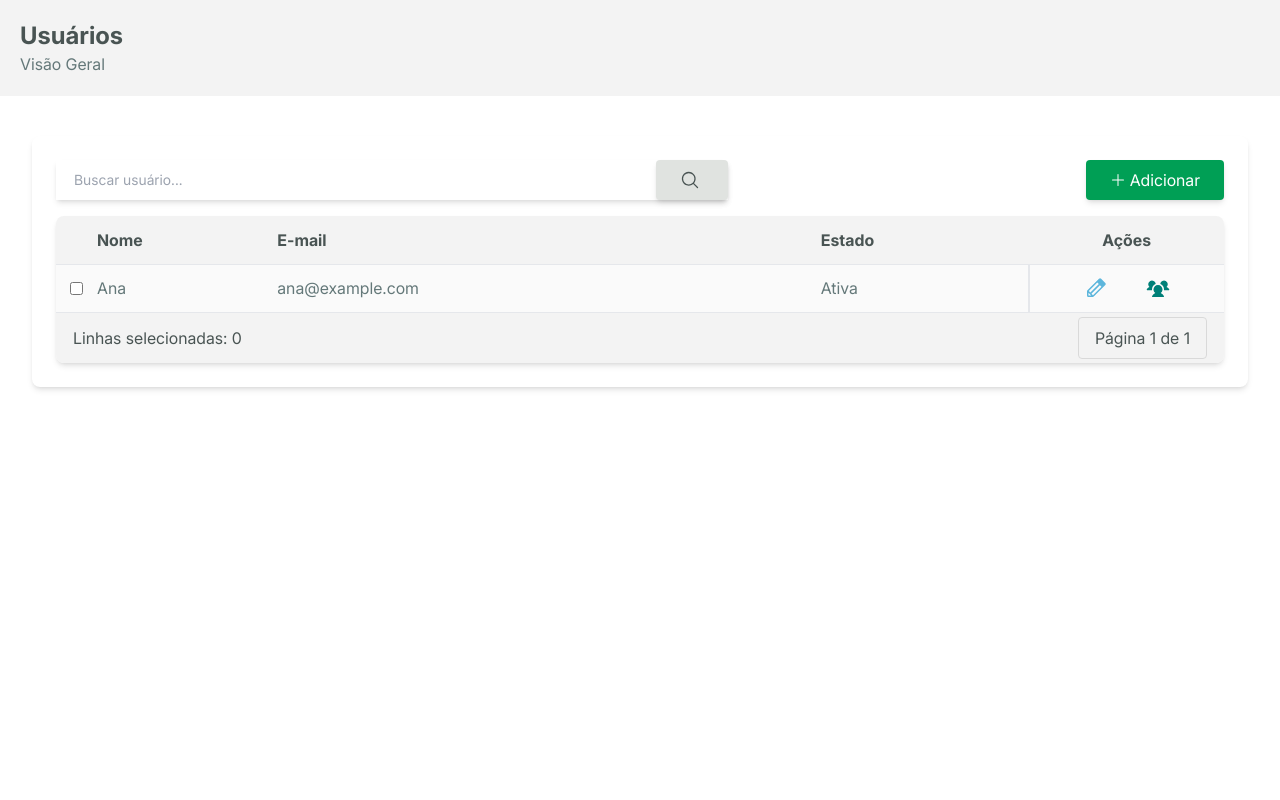
páginas CRUD assistenciais › changes an administrative account state after password confirmation
Check: the text "ana@example.com" is shown, box x1=276 y1=264 x2=820 y2=312
Click the button titled "Alterar estado" at (1096, 288), box x1=1084 y1=276 x2=1108 y2=300
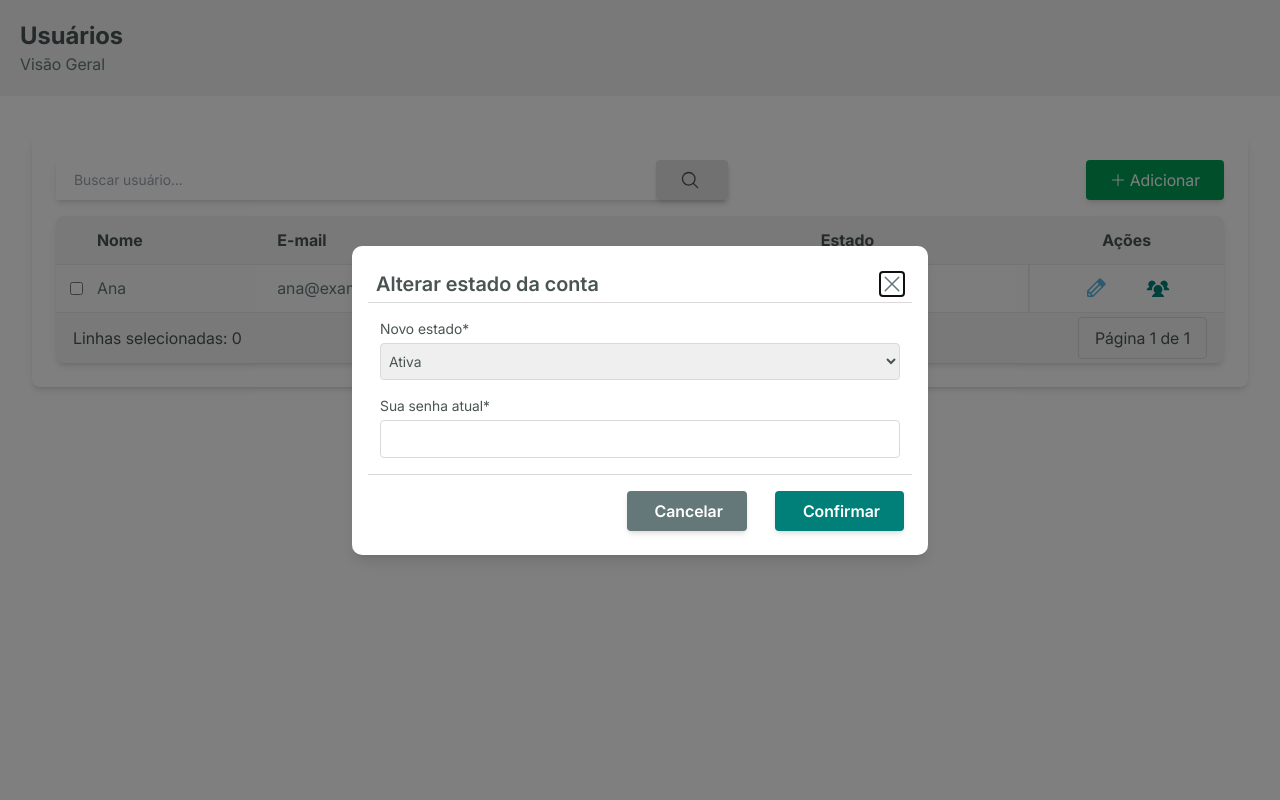
Select "Bloqueada" in the dropdown named "accountState" at (640, 361), box x1=380 y1=342 x2=900 y2=380
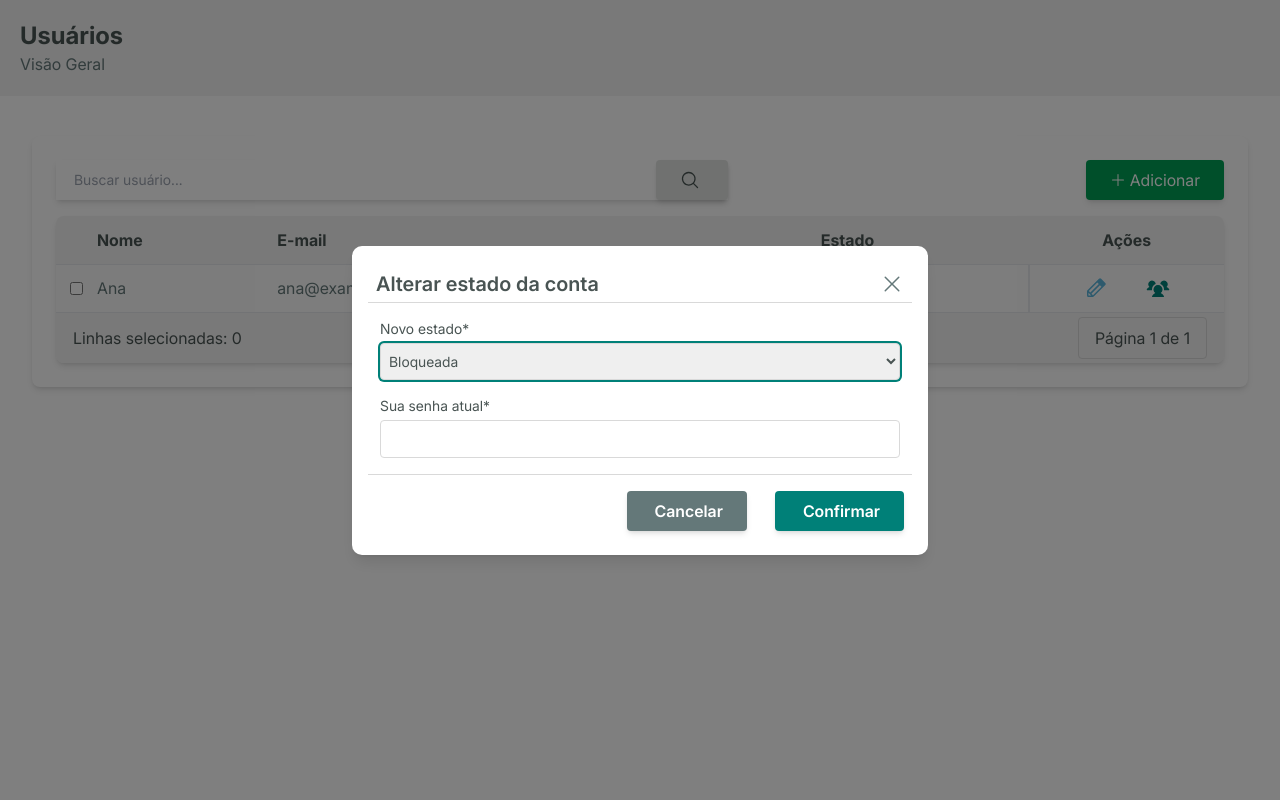
Type "SenhaSegura1!" into the password field labelled "Sua senha atual*" at (640, 438), box x1=380 y1=420 x2=900 y2=458
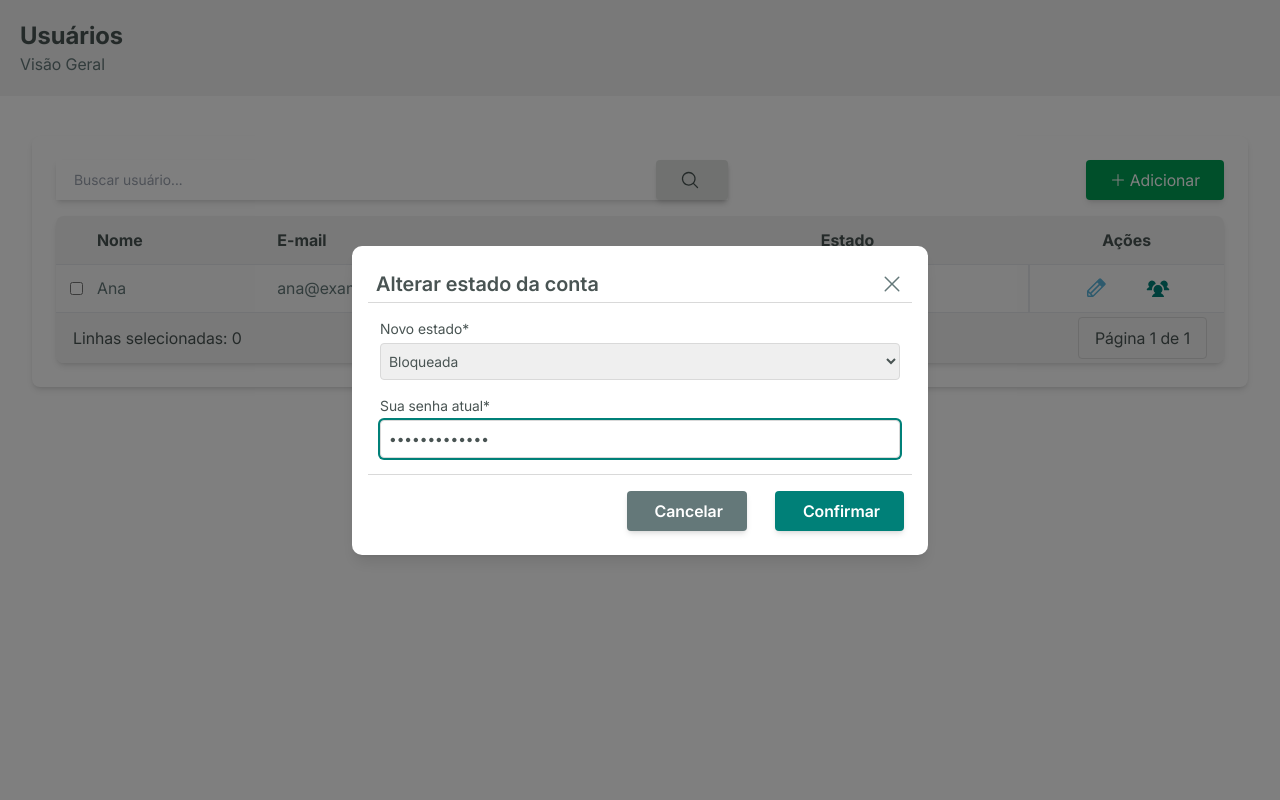
Click the button "Confirmar" at (839, 510), box x1=775 y1=490 x2=904 y2=530
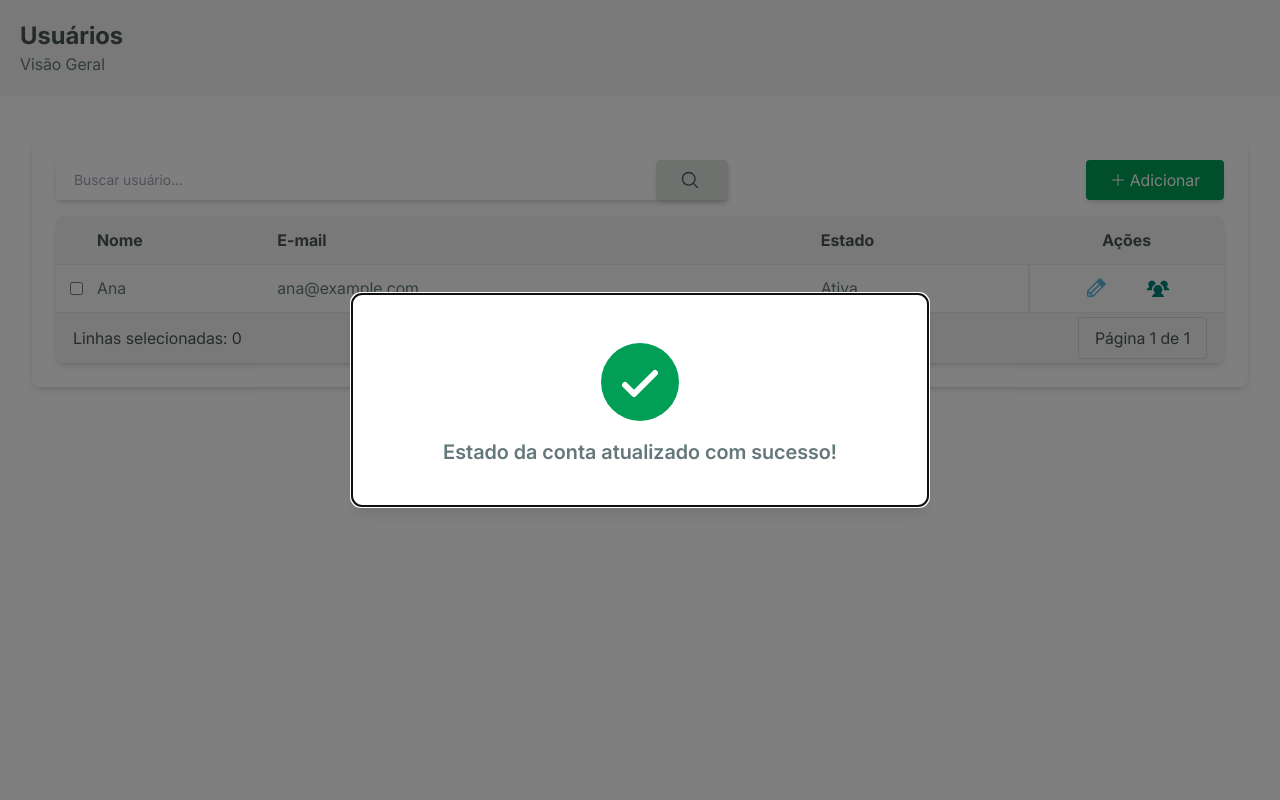
Check: the text "Estado da conta atualizado com sucesso!" is shown, box x1=443 y1=438 x2=837 y2=466
